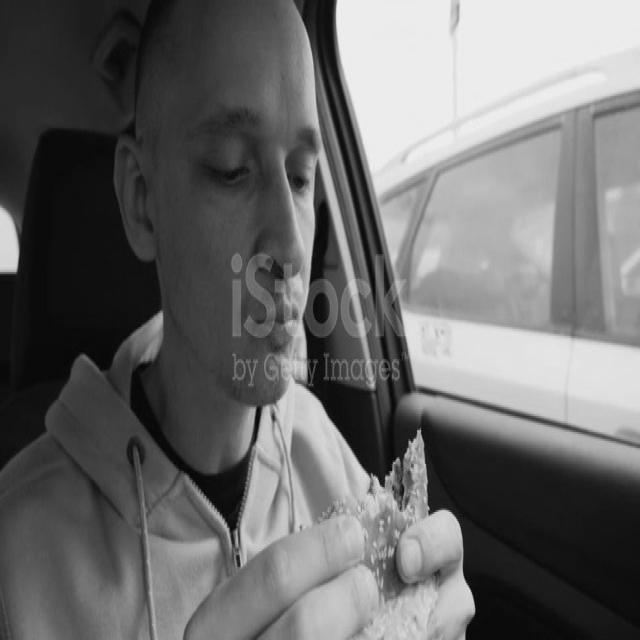Eating: (118, 2, 479, 637)
